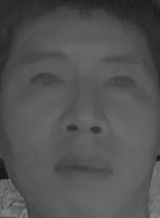eye: (99, 71, 140, 95), (27, 69, 67, 93)
mouth: (54, 147, 114, 189)
